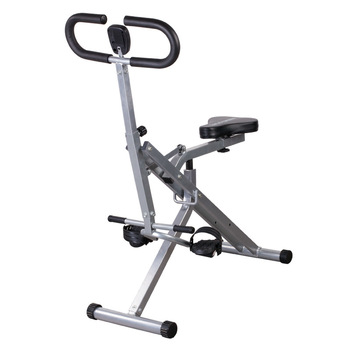gym_bike: (55, 14, 299, 341)
